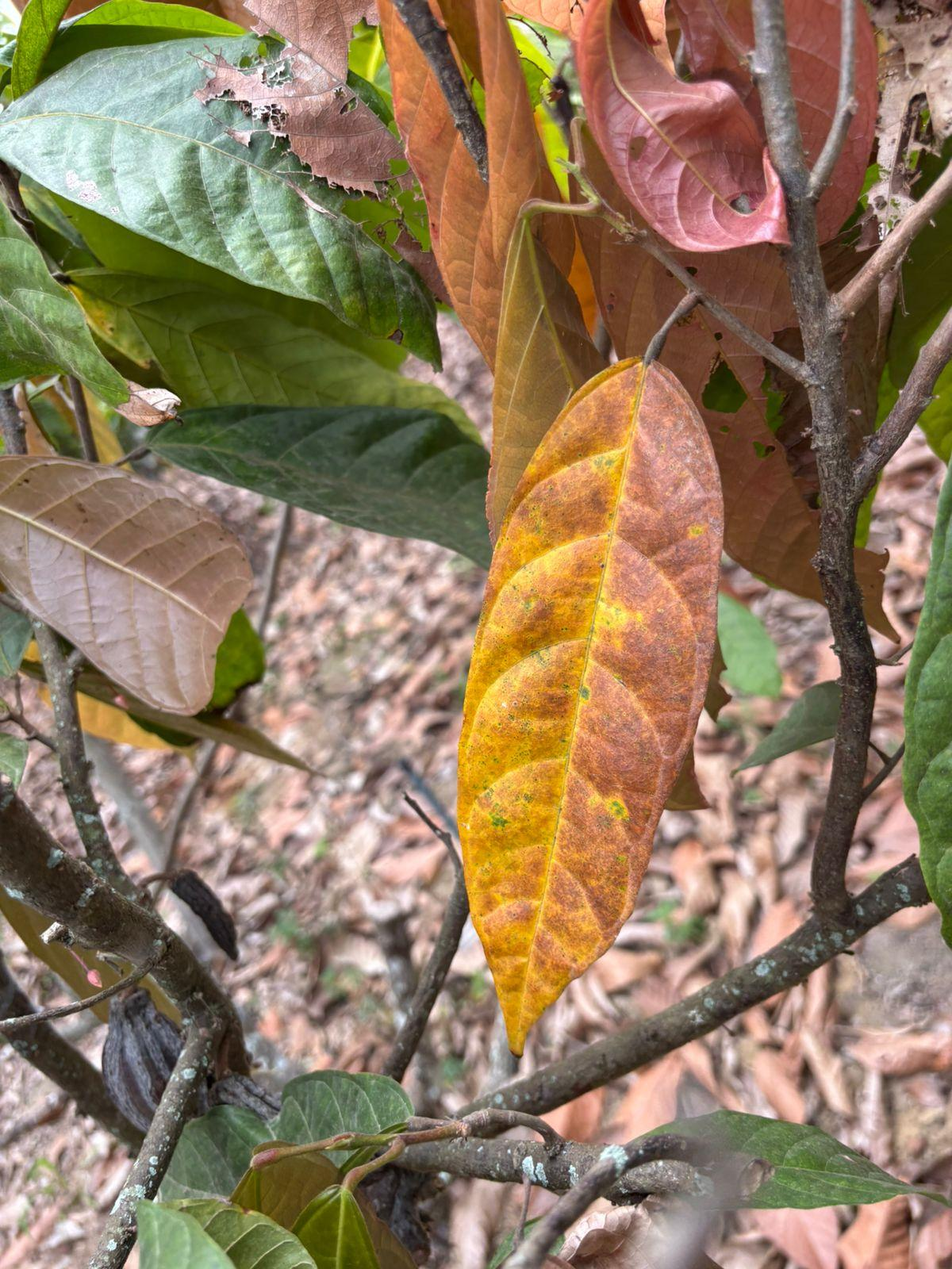deficienciia_fosforo: (458, 358, 722, 1053)
